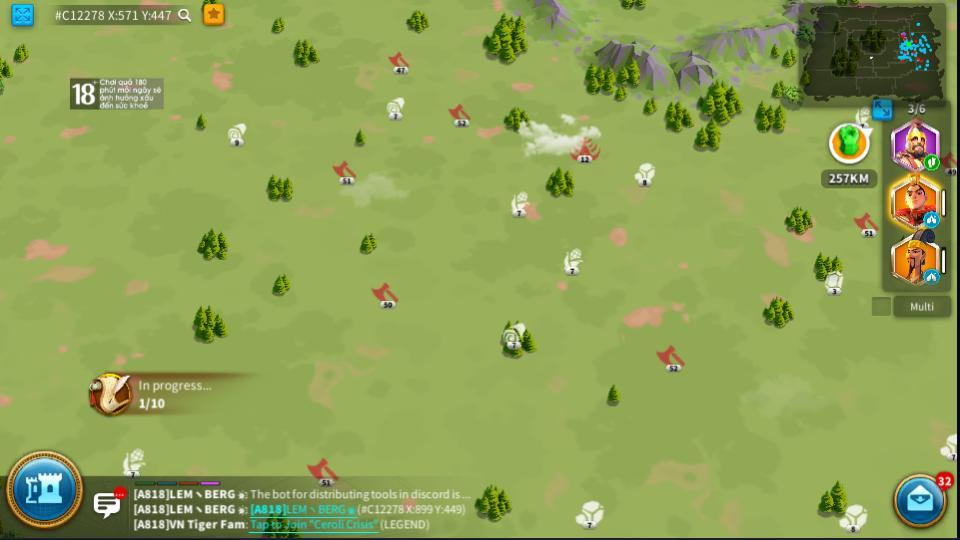gem-z-out: (122, 448, 146, 476)
march_idle: (923, 271, 939, 283), (923, 213, 938, 225)
march_marching: (923, 155, 939, 170)
